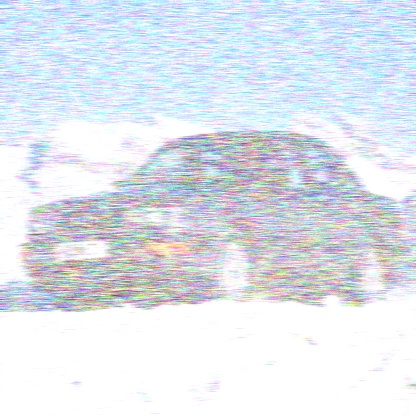Vehicle: (20, 131, 402, 305)
